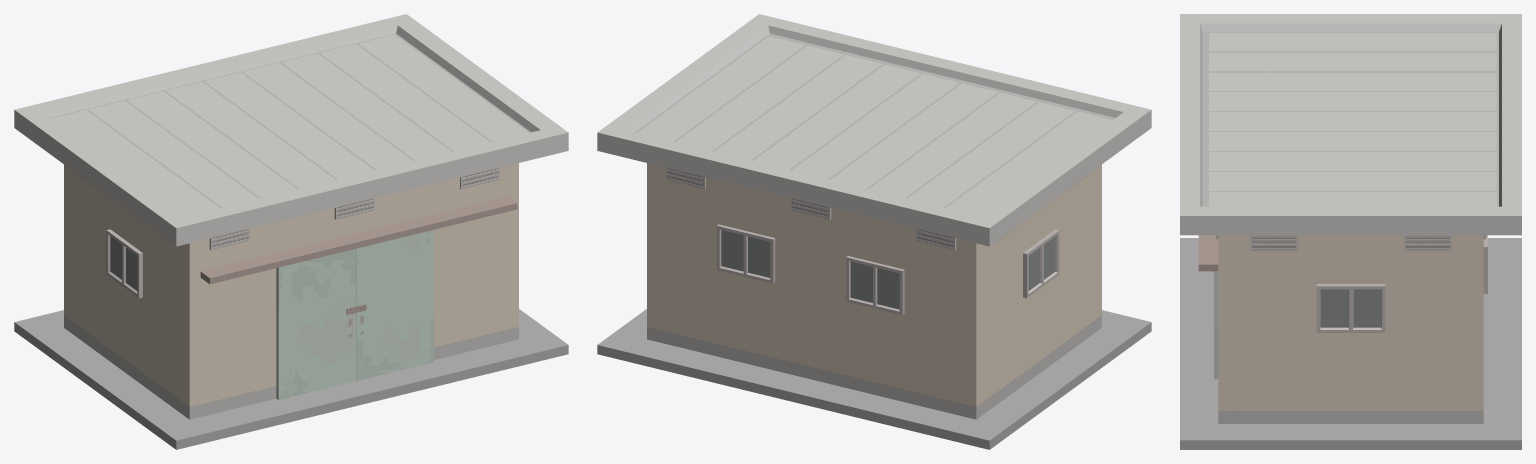
Rendered from 0499_Gym_Storage.glb.
3 views of the same model, side by side, from view 1: azimuth 30°, elevation 25°; view 2: azimuth 150°, elevation 25°; view 3: azimuth 270°, elevation 25° (orthographic). The views are drawn at different scales.
Visible parts, largest first — view 1: part_0; view 2: part_0; view 3: part_0.
Part boxes in pixels (x1,y1,x2,y2): part_0: (14, 14, 568, 449); part_0: (597, 14, 1151, 449); part_0: (1180, 14, 1521, 449).
Bounding box in the file's own units: 5.55 × 3 × 3.97.
1 material, 1 textured.
